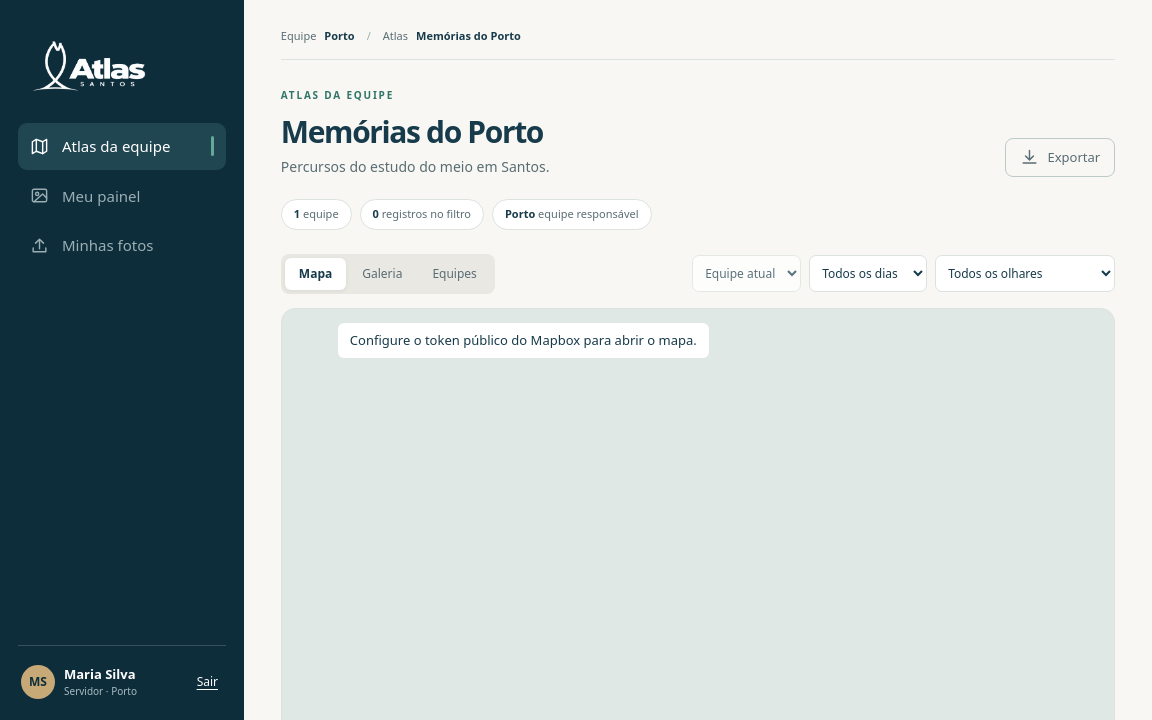
it: exibe servidor participante e permite repetir uma saída que falhou
Expected: the text "Servidor · Porto" is shown, [64,684,137,699]
Click the button "Sair".
click(207, 682)  # box [192,664,223,700]
(page scrolled)
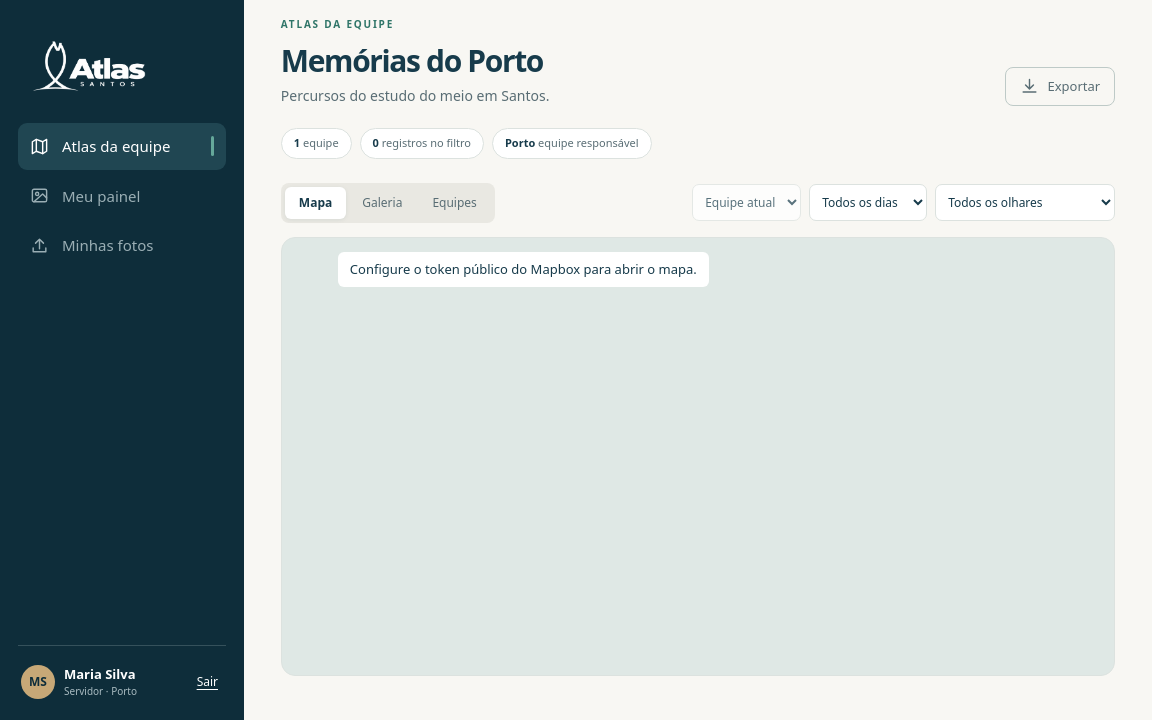
Click the button "Sair".
click(207, 682)  # box [192,664,223,700]
(page scrolled)
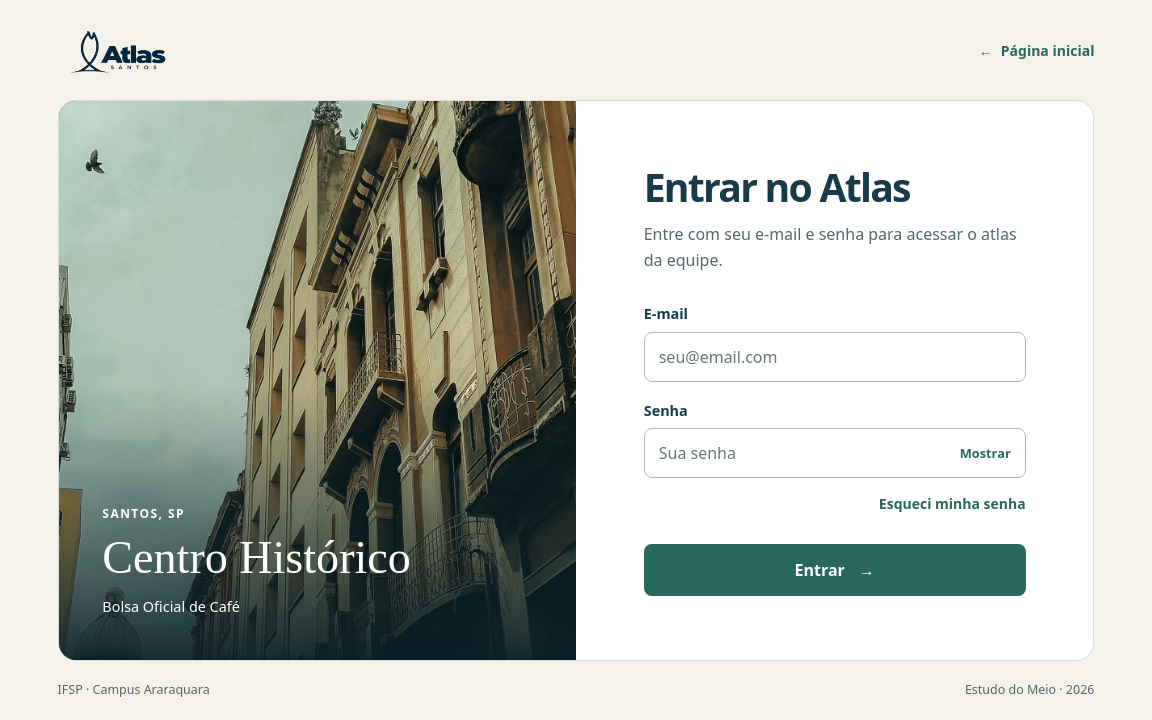
Now the heading "Entrar no Atlas" is shown, box [644,160,910,213]
